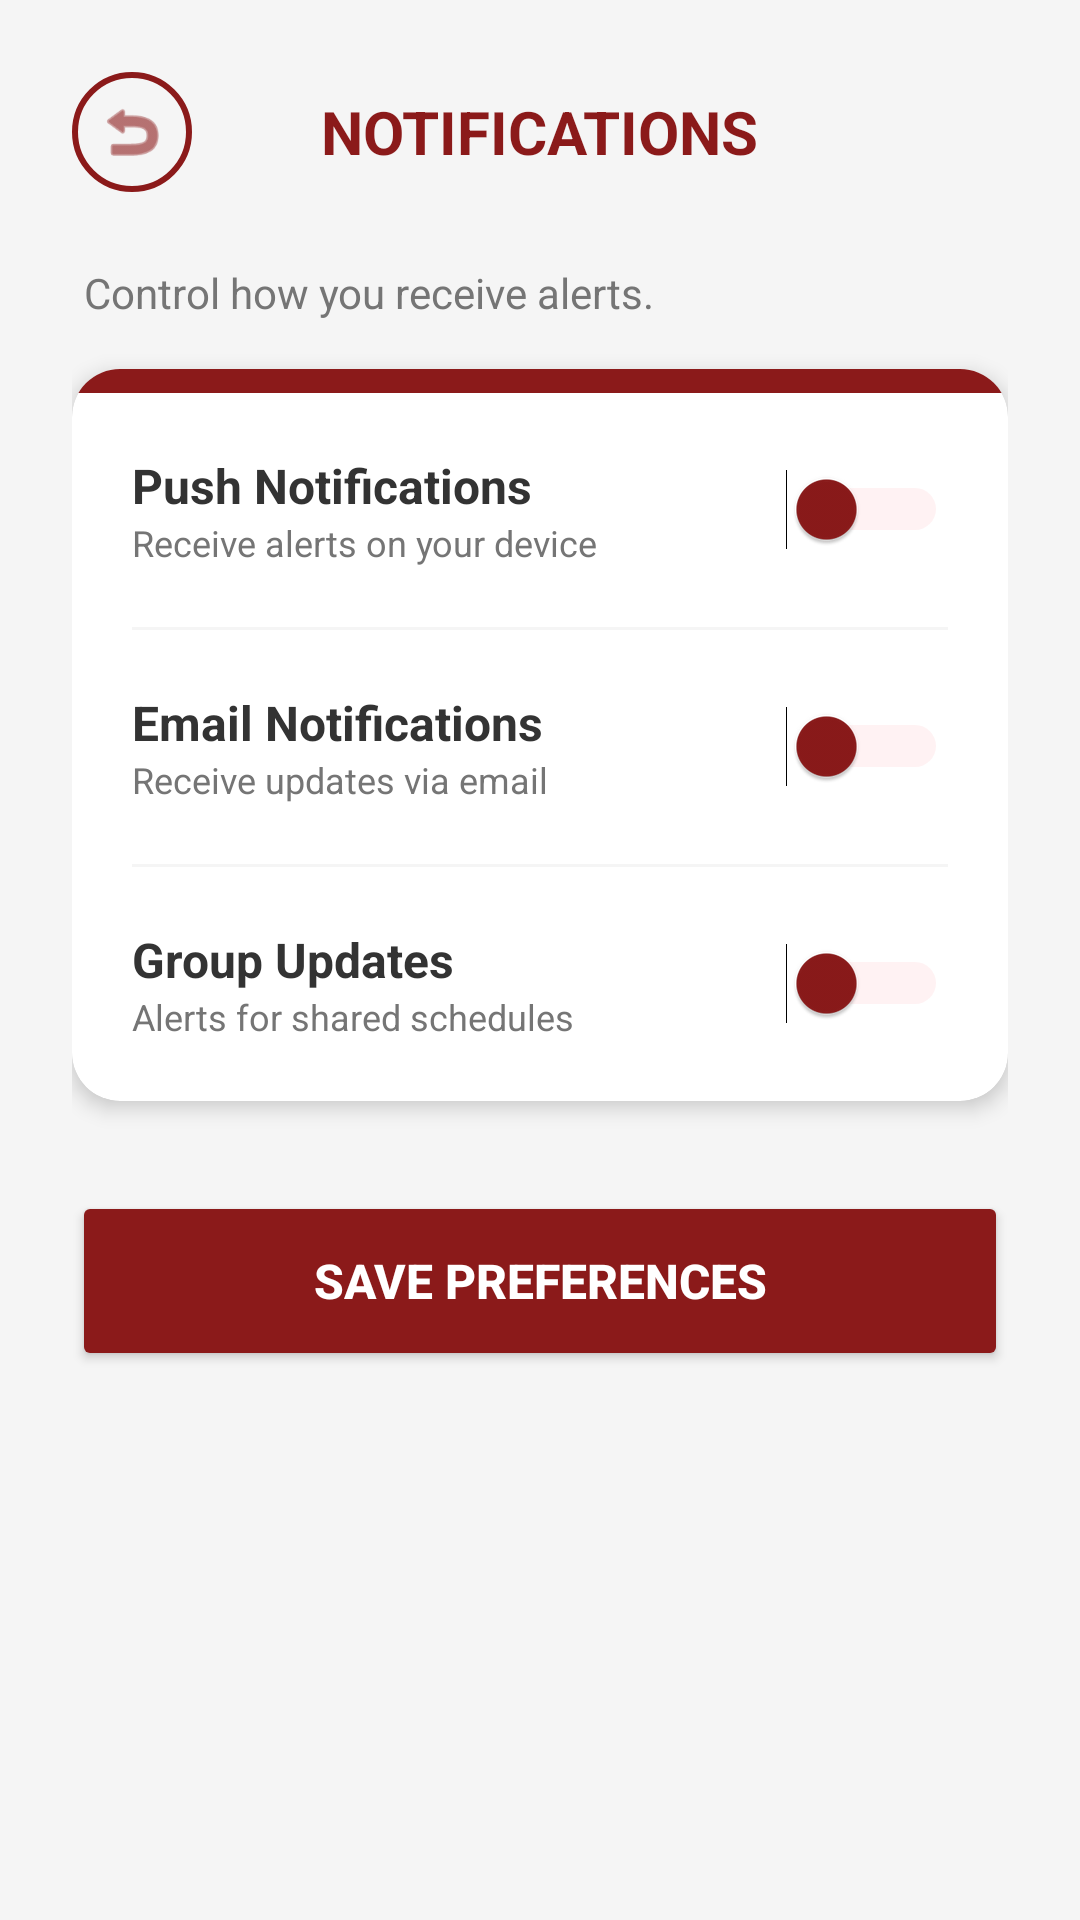

Icon click points for this 1080x1920 phone screenshot, format (x=x, y=y):
revert: (x=132, y=132)
